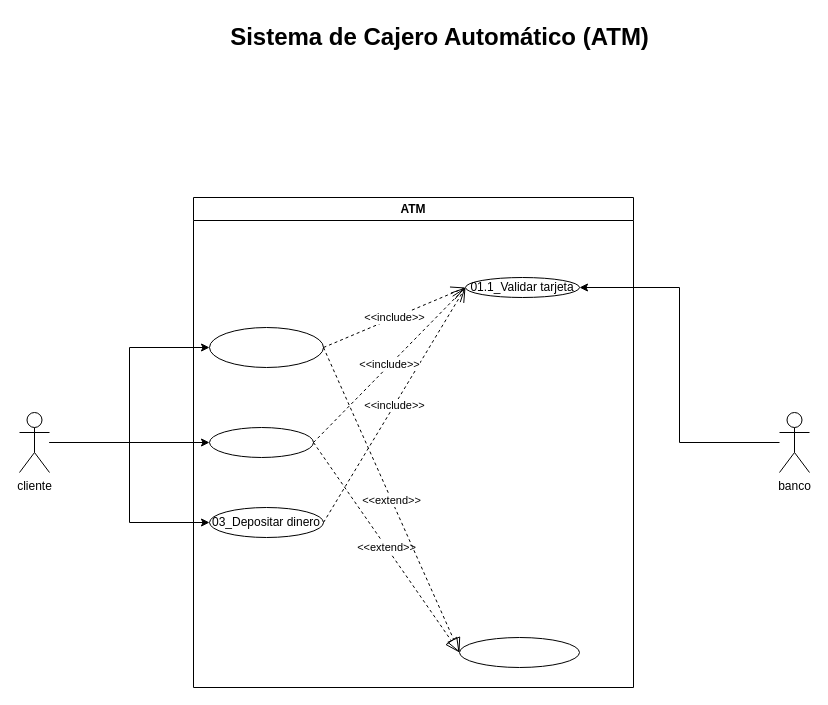
Image size: 828x705. Some labels were removed from this diagram. Each missing label, with the centre of its shape:
"saldo insuficiente": pixel 519 652
01_Consultar saldo: pixel 266 347
02_Retirar dinero: pixel 261 442
